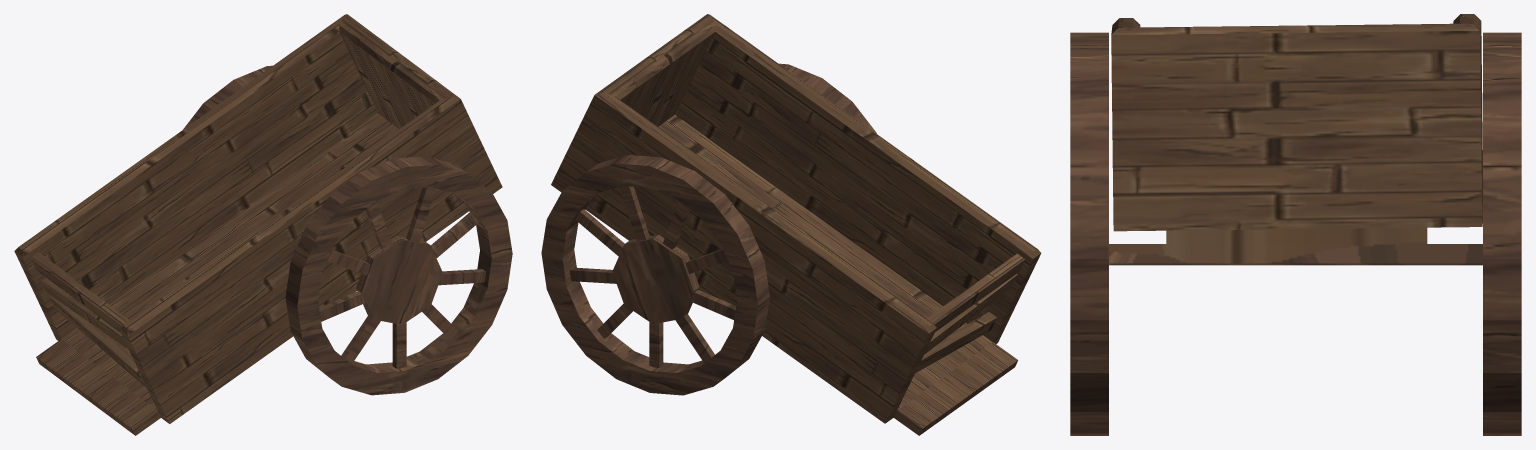
File: Cart 1.fbx
3 renders of one model, left to right at view 1: azimuth 30°, elevation 25°; view 2: azimuth 150°, elevation 25°; view 3: azimuth 270°, elevation 25°, orthographic. The views are drawn at different scales.
Visible parts, largest first — view 1: Cart_1; view 2: Cart_1; view 3: Cart_1.
Part boxes in pixels (<box>): Cart_1: <box>14,14,512,435</box>; Cart_1: <box>541,14,1041,435</box>; Cart_1: <box>1070,14,1521,435</box>.
Bounding box in the file's own units: 1.39 × 0.9621 × 0.8848.
